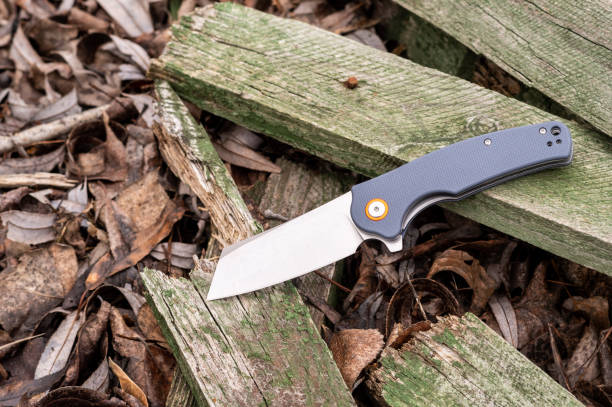knife: (203, 118, 574, 301)
